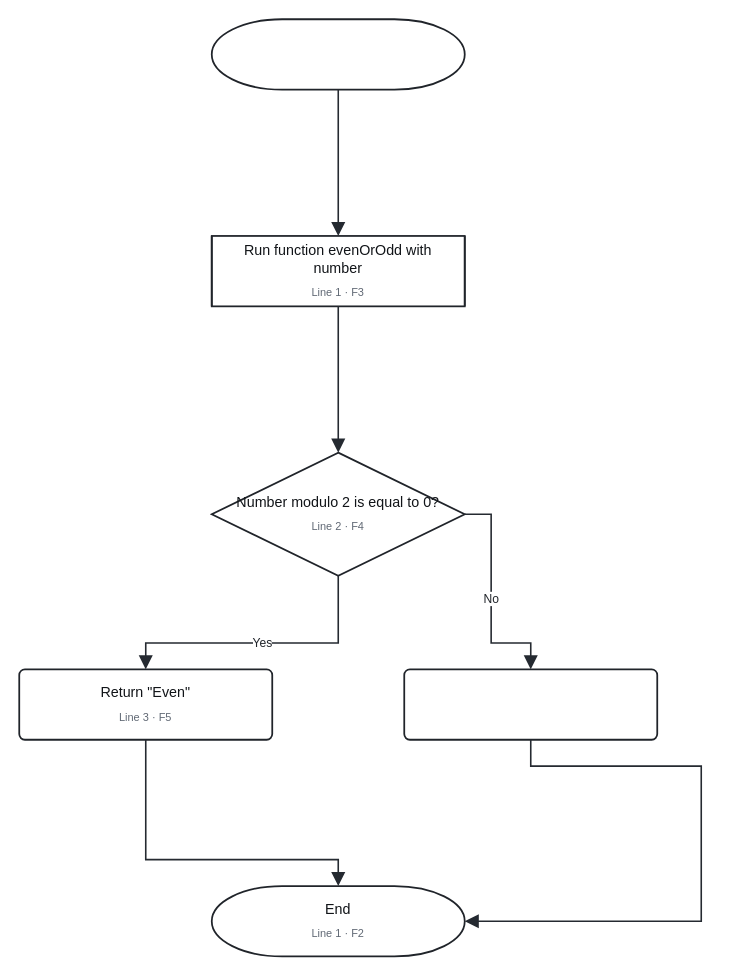
Image size: 734x977. Some labels were removed from this diagram. Each missing label, with the centre of its shape:
Return "Odd" Line 5 · F6: pixel 530 704
Start Line 1 · F1: pixel 337 54
